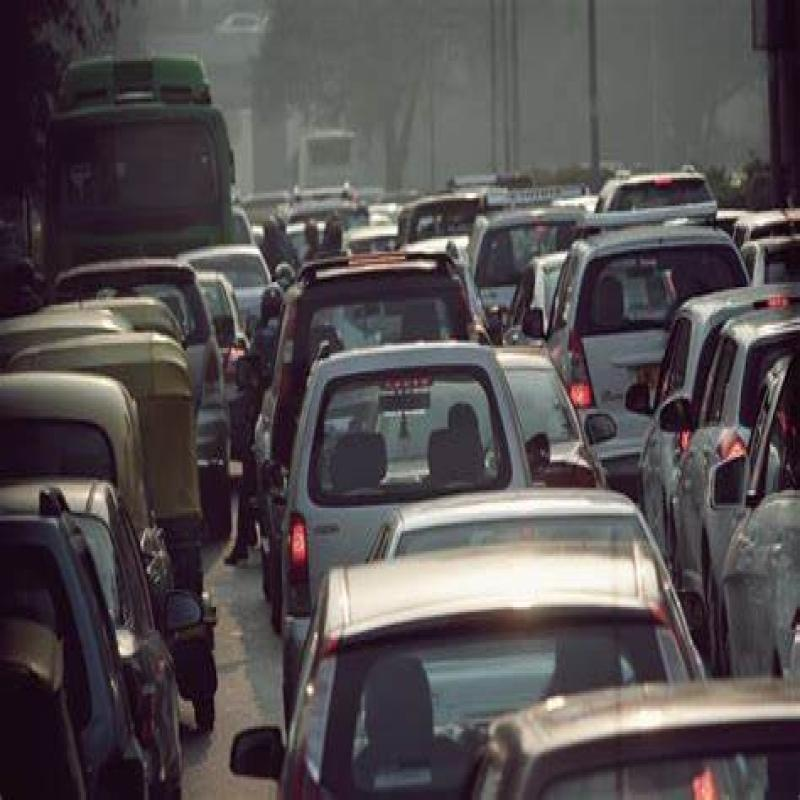car: (280, 532, 696, 800), (278, 346, 584, 588)
